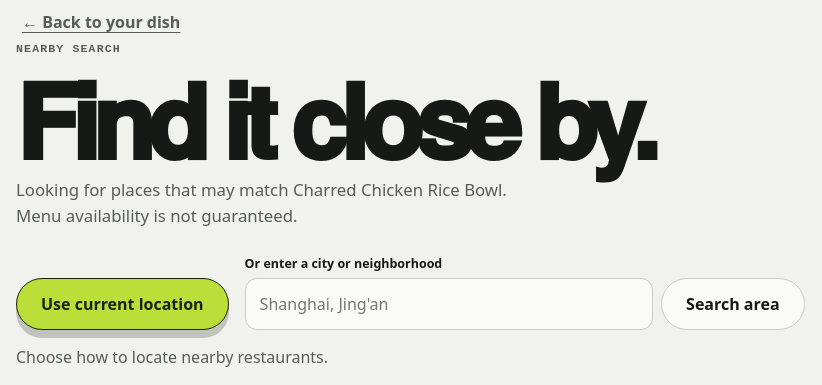
Test: respects a revoked location setting before opening consent
Click the button "Use current location" at (122, 304), box [16,278,229,330]
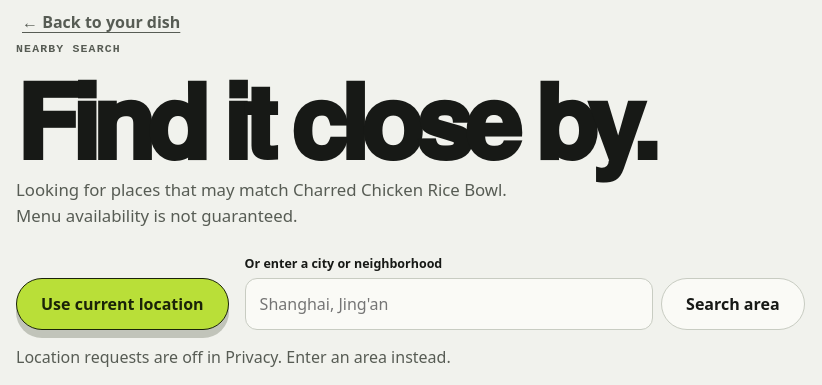
Check: the text "Location requests are off in Privacy. Enter an area instead." is shown, box [16,346,451,368]
